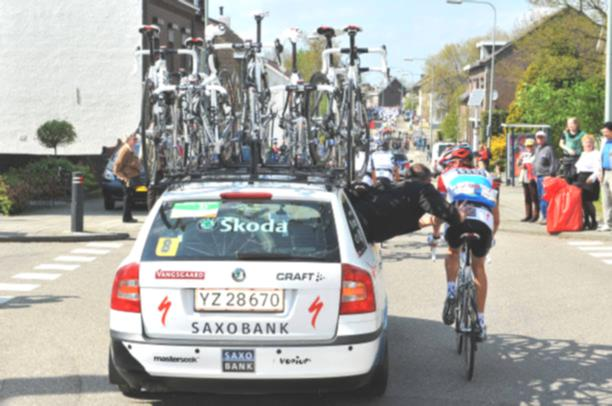skoda: (195, 213, 219, 235), (229, 266, 253, 287)
